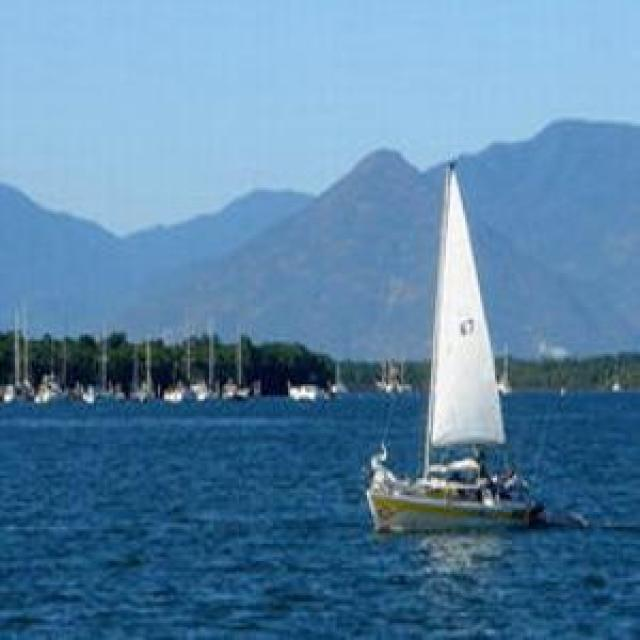sailboat: (366, 149, 548, 530)
